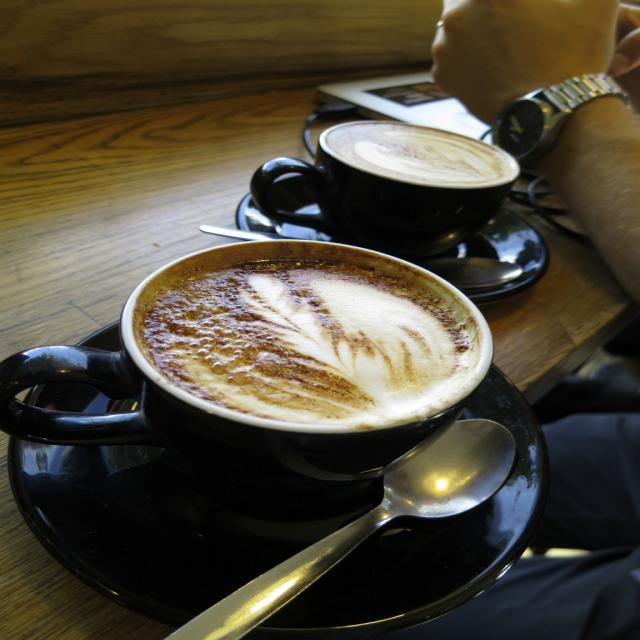latte: (120, 239, 495, 436), (315, 117, 525, 194)
